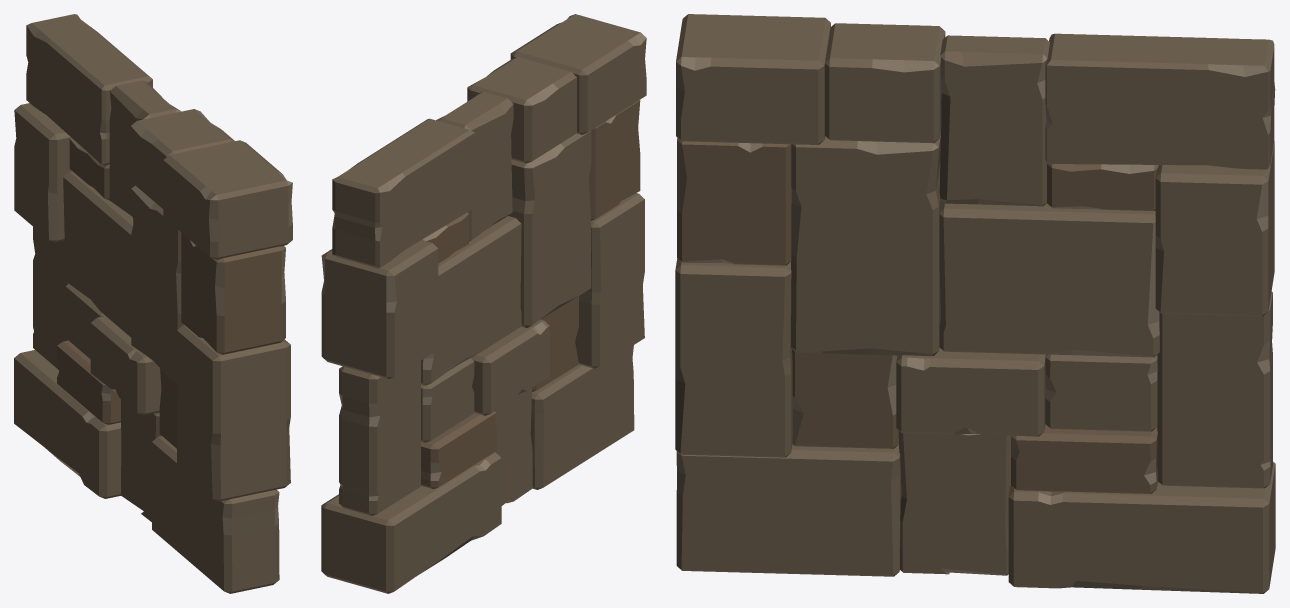
File: chamber_wall_east_8_lev3.glb
3 views of the same model, side by side, from view 1: azimuth 30°, elevation 25°; view 2: azimuth 150°, elevation 25°; view 3: azimuth 270°, elevation 25° (orthographic). The views are drawn at different scales.
Parts seen in each view (by area): view 1: chamber_wall_east_8_lev3; view 2: chamber_wall_east_8_lev3; view 3: chamber_wall_east_8_lev3.
Part boxes in pixels (x1,y1,x2,y2): chamber_wall_east_8_lev3: (14, 14, 292, 593); chamber_wall_east_8_lev3: (321, 14, 646, 593); chamber_wall_east_8_lev3: (675, 14, 1275, 593).
Bounding box in the file's own units: 1.59 × 5.92 × 6.16.
